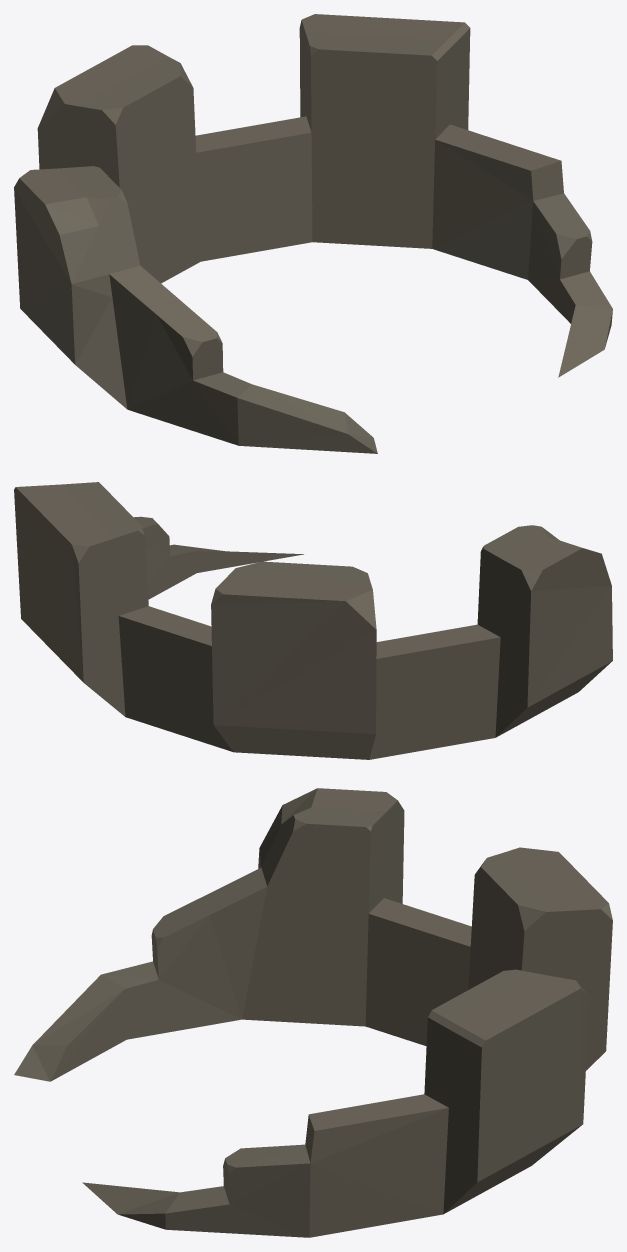
3 views of the same model, one above another, from view 1: azimuth 30°, elevation 25°; view 2: azimuth 150°, elevation 25°; view 3: azimuth 270°, elevation 25° (orthographic). The views are drawn at different scales.
Visible parts, largest first — view 1: mff_tower_top; view 2: mff_tower_top; view 3: mff_tower_top.
Boxes of the visible parts, x1,y1,x2,y2 form: mff_tower_top: (14, 14, 612, 453); mff_tower_top: (14, 482, 612, 759); mff_tower_top: (14, 788, 612, 1237).
Size of the model in its own units: 8.92 by 3.09 by 8.65.
1 material, 1 textured.
